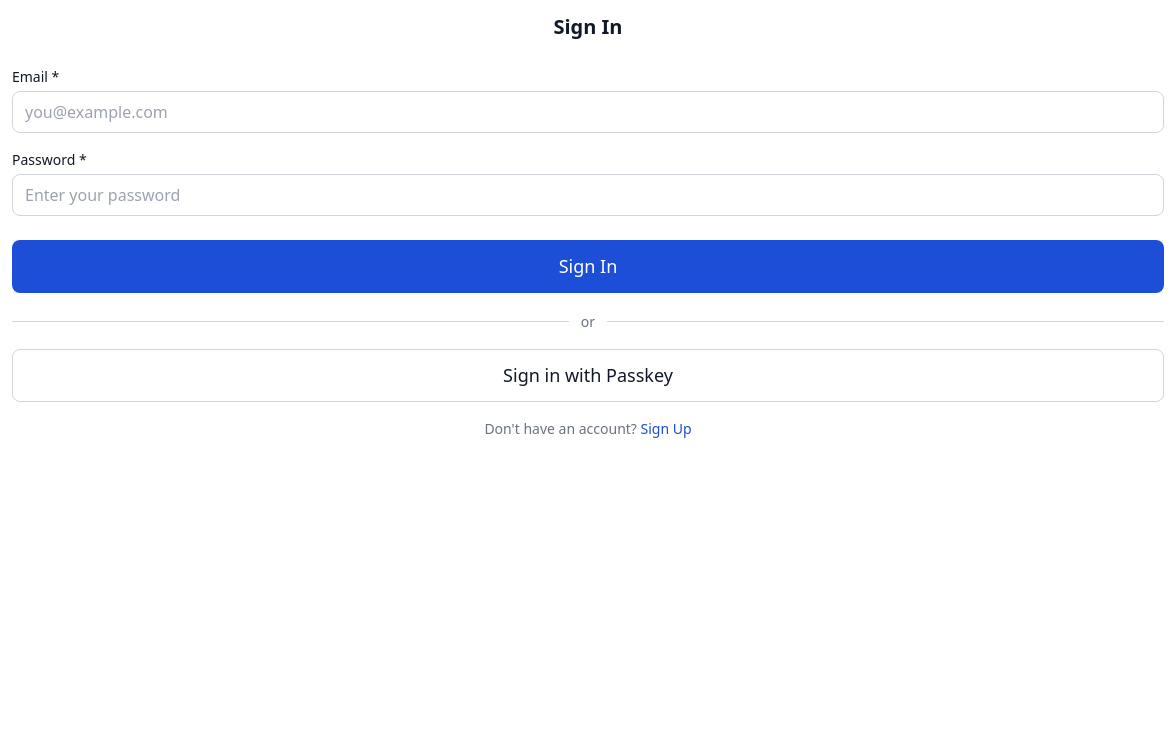
Test case: sign-in page › displays error message when signIn fails
This screenshot has width=1176, height=732.
Type "user@example.com" into the field with id "sign-in-email" at (588, 112), box [12,91,1164,133]
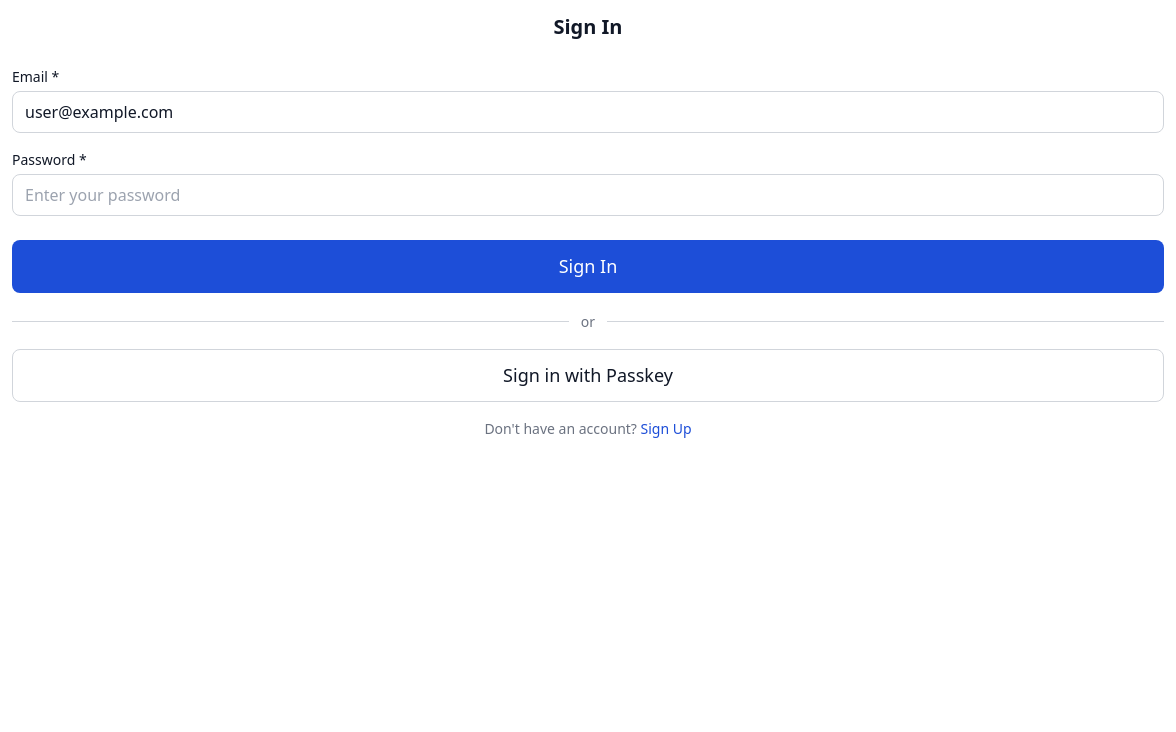
Type "password123" into the password field with id "sign-in-password" at (588, 195), box [12,174,1164,216]
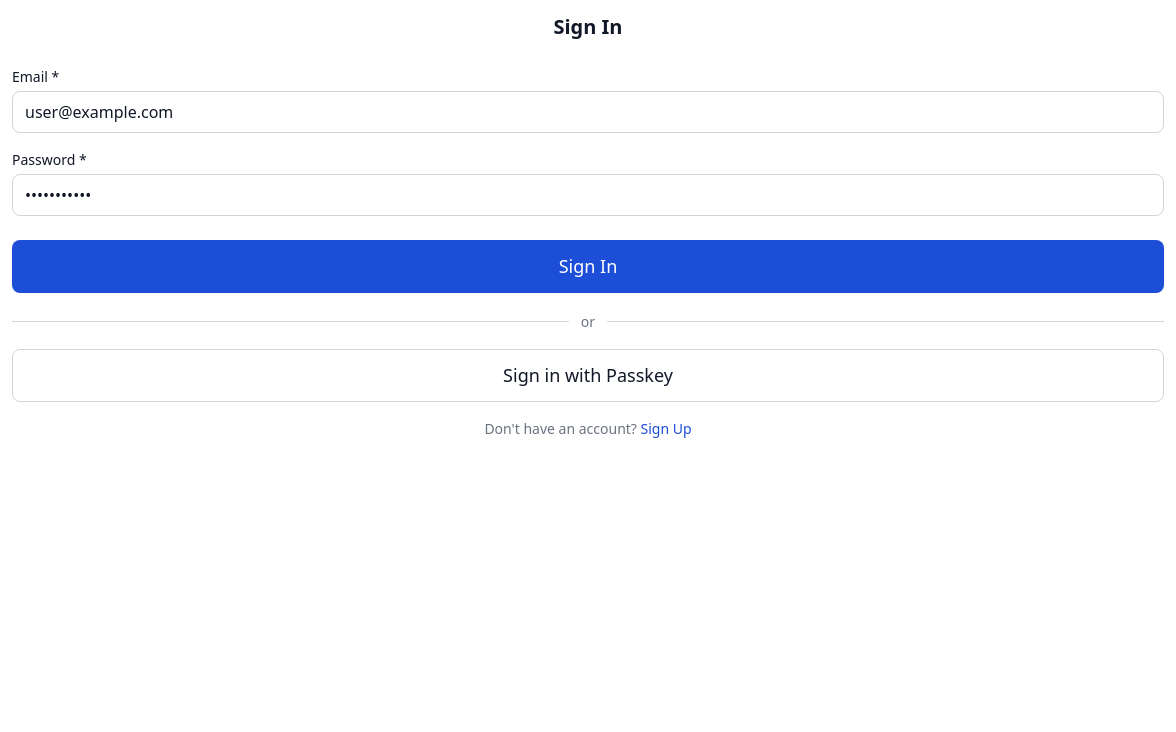
Submit the form, box [12,66,1164,293]
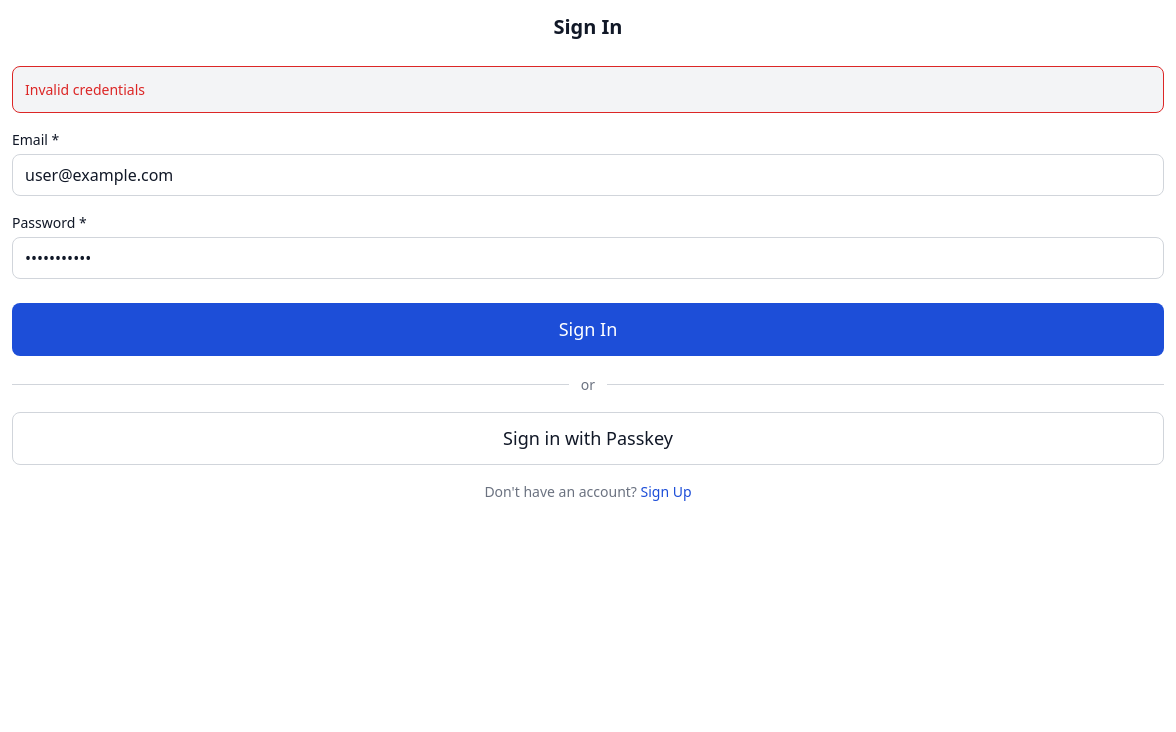
Check: the text "Invalid credentials" is shown, box [12,66,1164,113]
